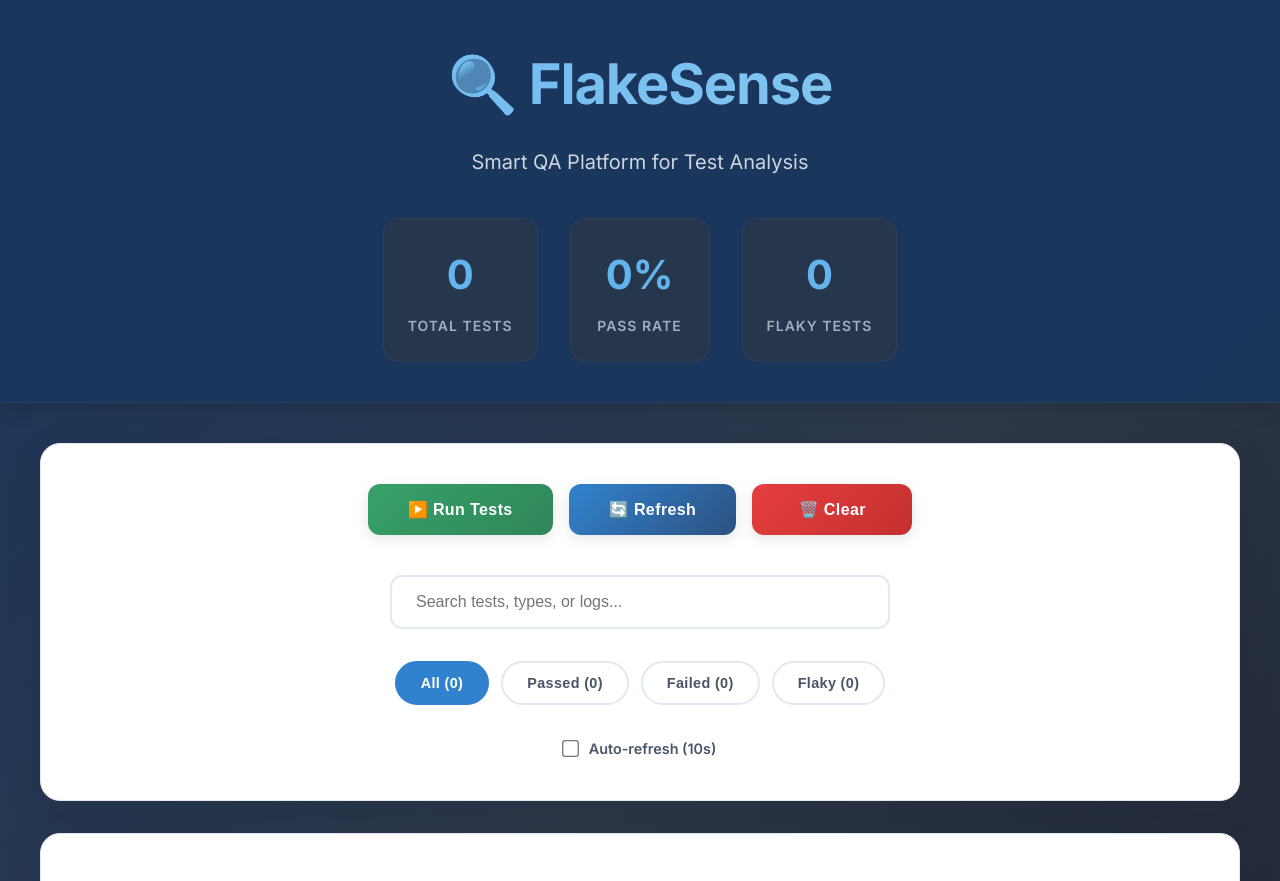
Test: FlakeSense Dashboard › Button Interactions › refresh button fetches latest results
// Click refresh button
What coordinates should you click on to do the following:
click the button "🔄 Refresh"
I would click on:
 (652, 510)
Its box is x1=569 y1=484 x2=736 y2=535.
(page scrolled)
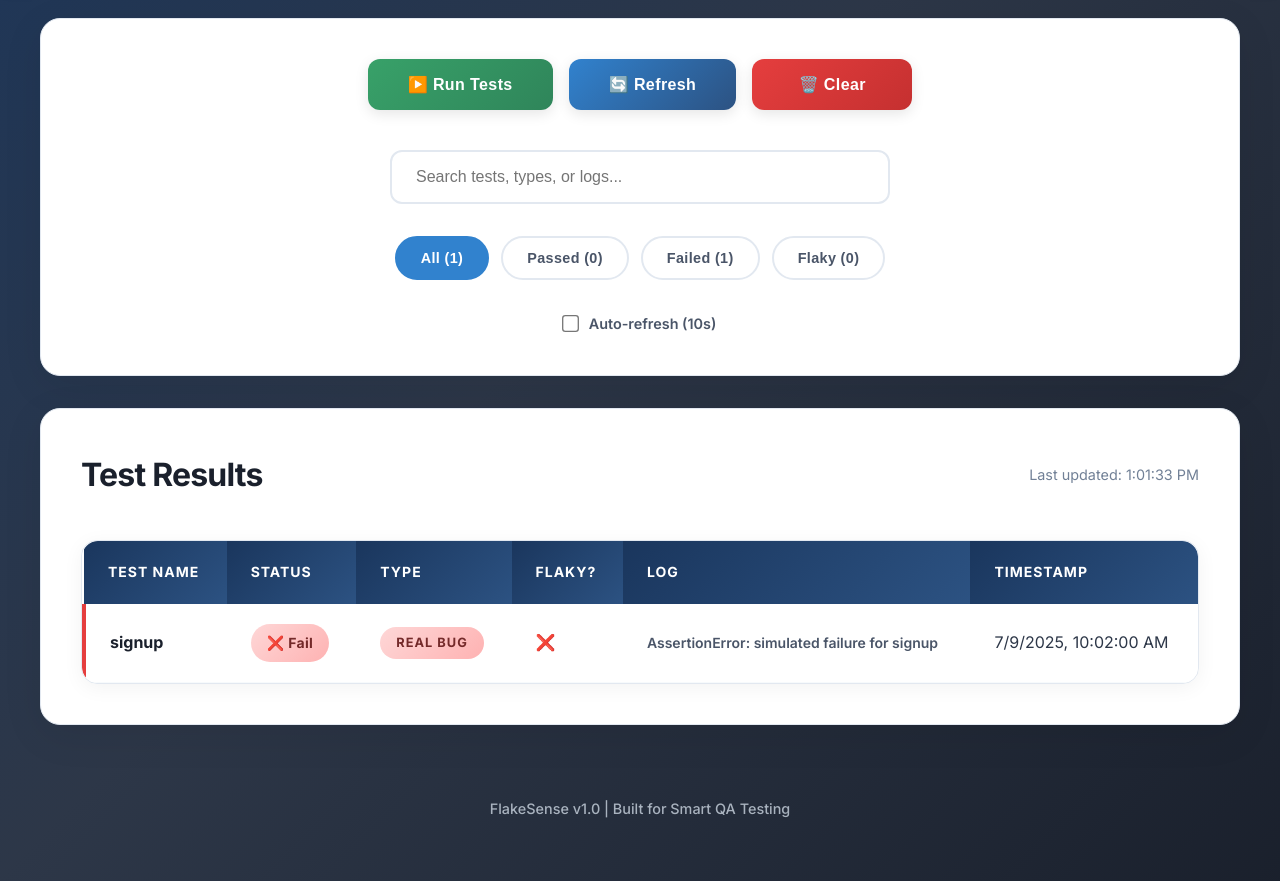
Result: the text "signup" is shown at x1=110 y1=632 x2=163 y2=652
Result: the text "Real Bug" is shown at x1=380 y1=627 x2=484 y2=659
